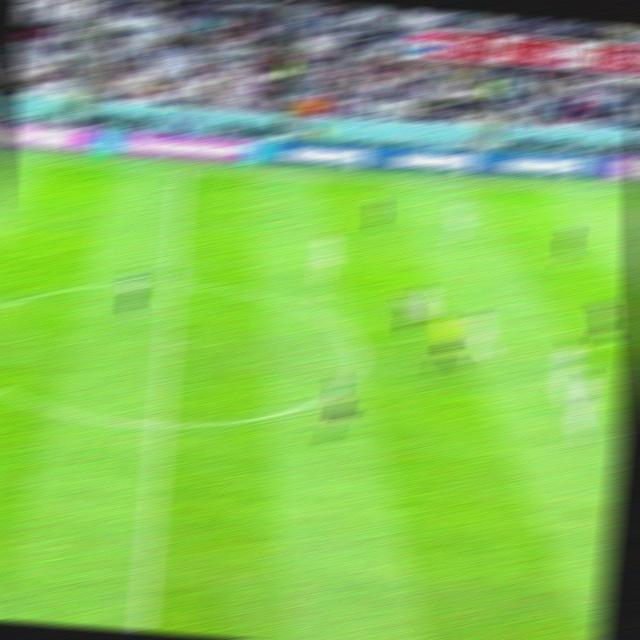halfcircle_bottom: (144, 406, 180, 440)
halfcircle_top: (156, 269, 191, 297)
midline_top_intersection: (170, 160, 196, 181)
